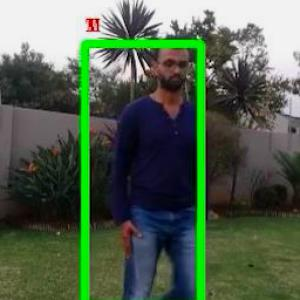follow: (107, 49, 178, 299)
